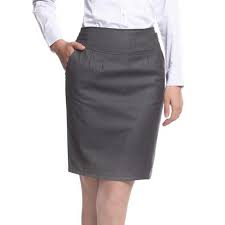F_tailored skirt: (47, 13, 177, 186)
